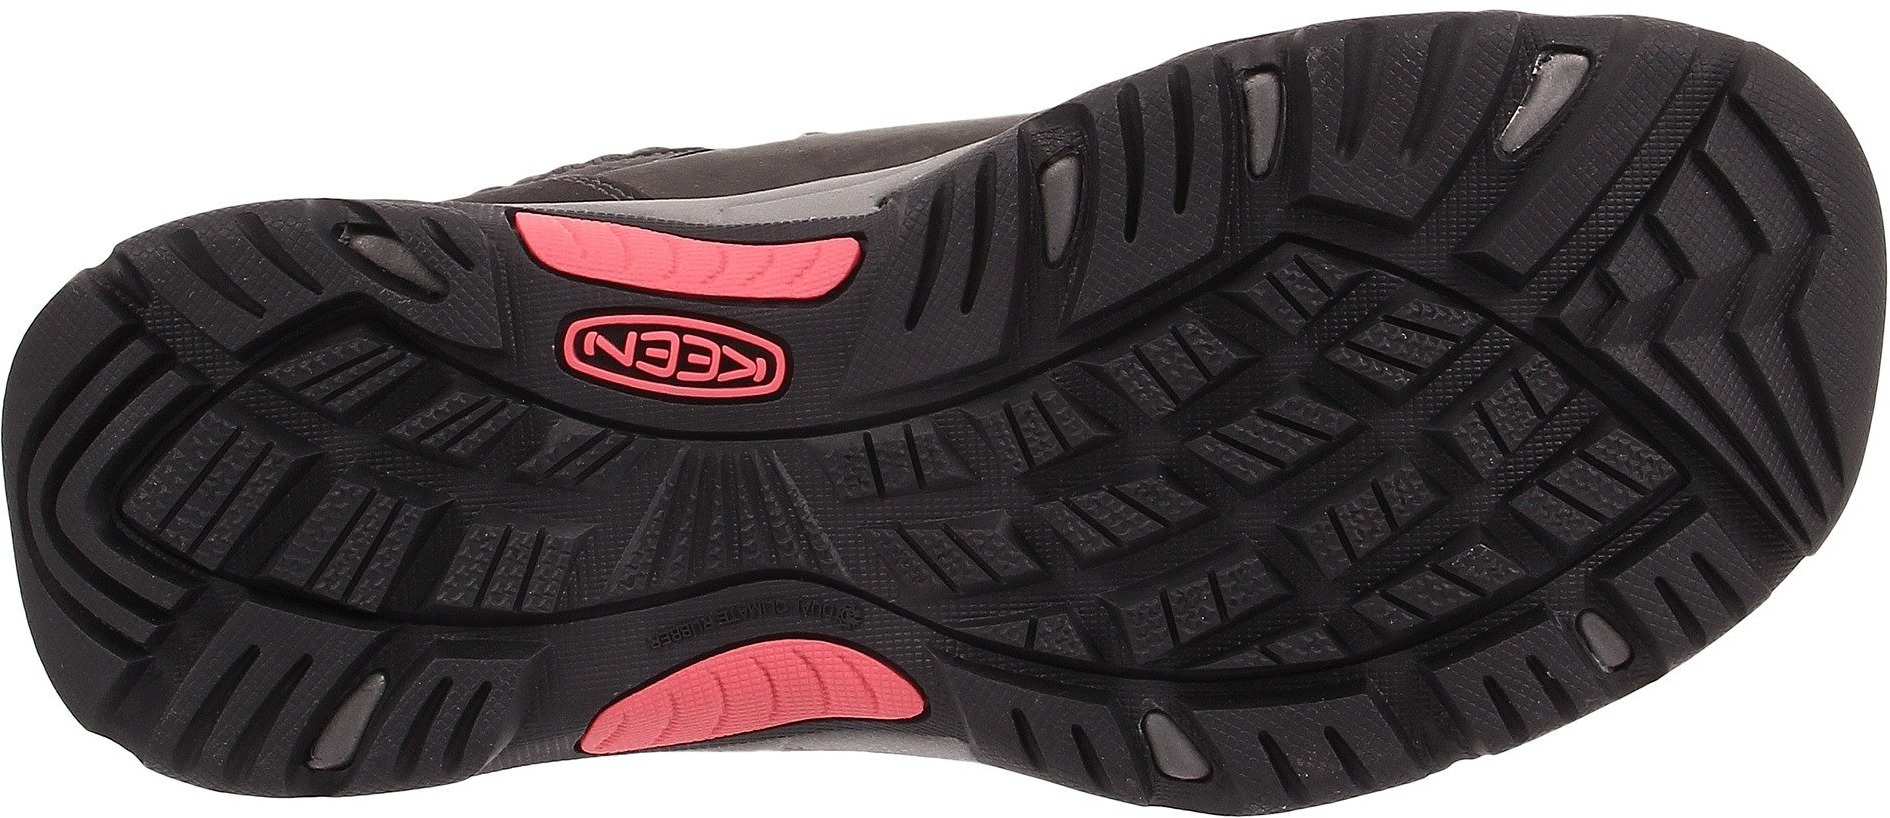chevron: (1633, 190, 1851, 417)
exclude: (370, 0, 1140, 305)
quad: (835, 255, 1021, 434)
text: (574, 300, 683, 404), (674, 316, 774, 410)
triangle: (645, 431, 830, 611), (1123, 698, 1228, 798)
